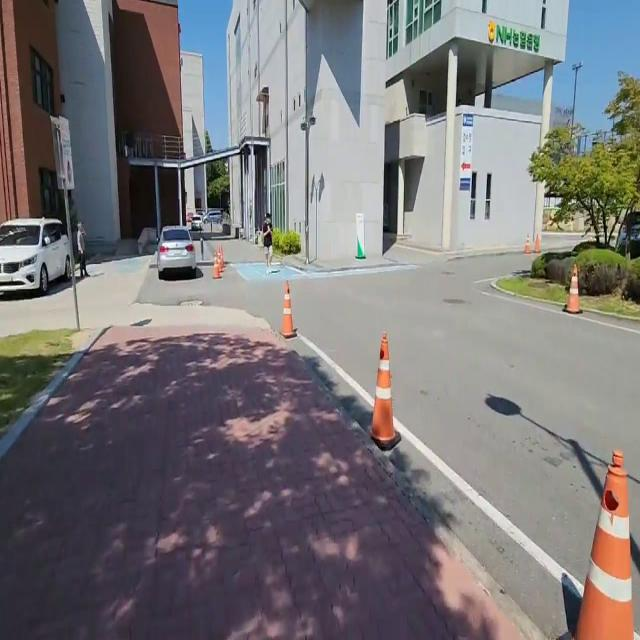car: (0, 205, 73, 303), (153, 220, 204, 285)
human: (258, 209, 280, 279), (73, 218, 93, 278)
streetlamp: (294, 107, 322, 272)
